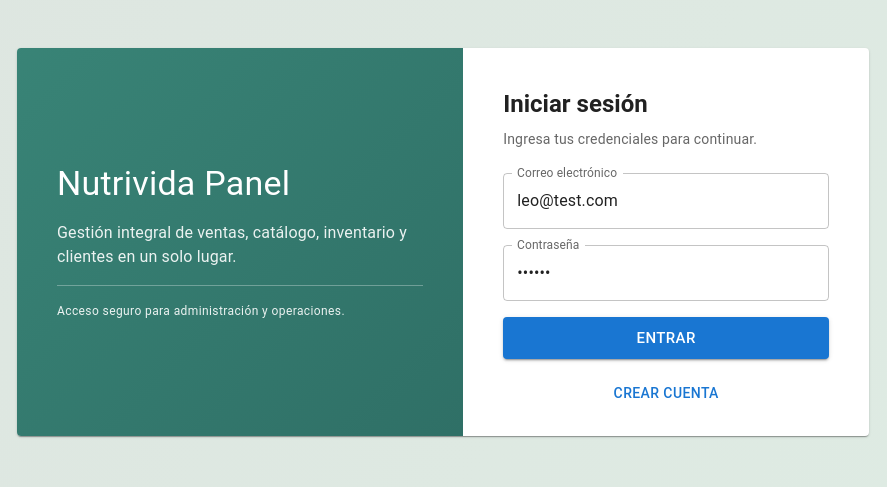
Test: Login page › shows an error message when login fails
Click the button "Entrar": (666, 338) [503,317,829,359]
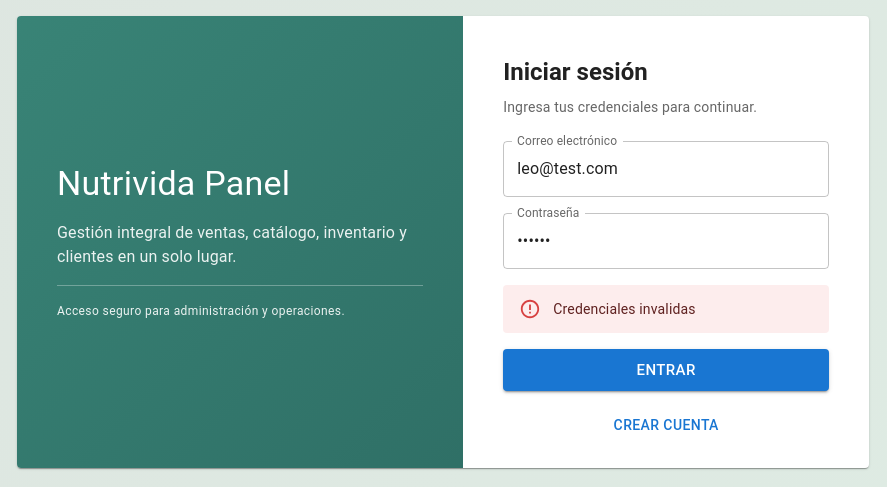
Expected: the text "Credenciales invalidas" is shown, [553,301,696,317]
